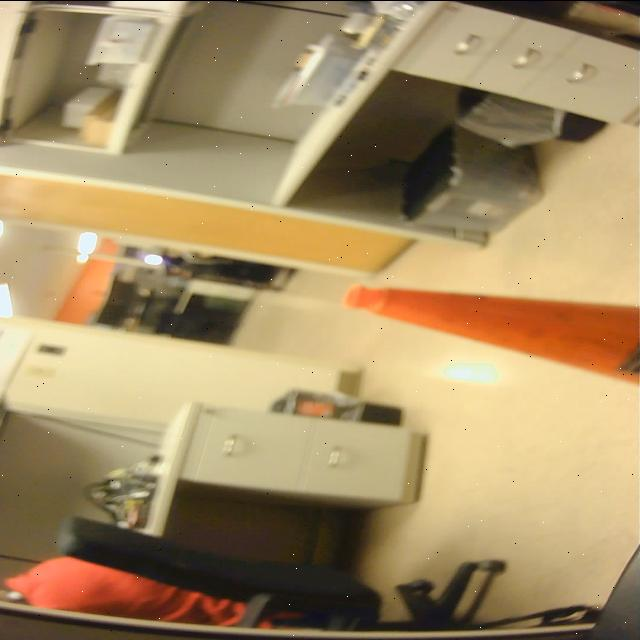traffic cone: (335, 281, 640, 391)
